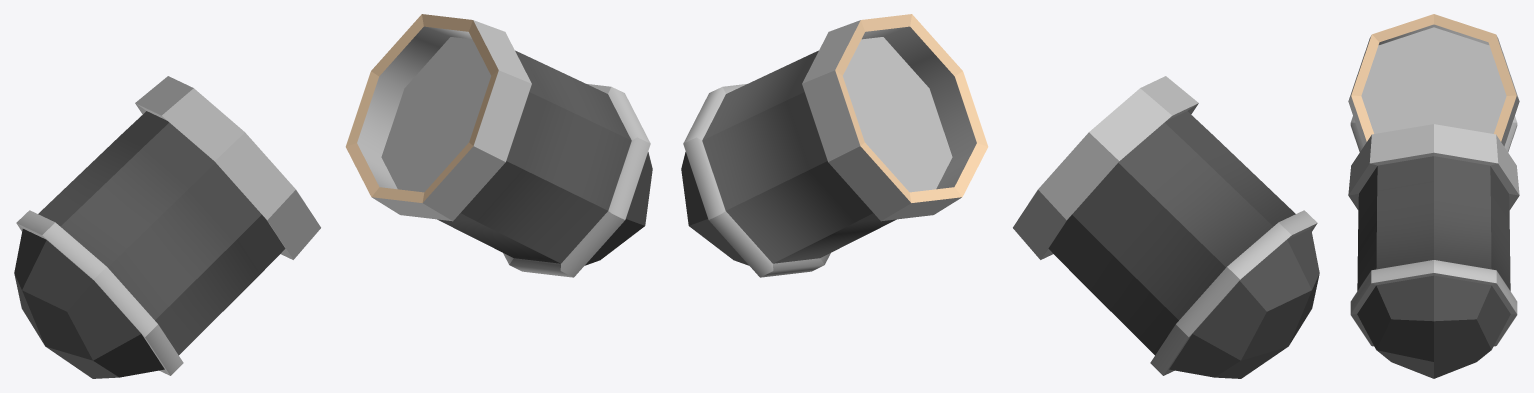
Rendered from iron_gloves_mesh.fbx.
3 renders of one model, left to right at view 1: azimuth 30°, elevation 25°; view 2: azimuth 150°, elevation 25°; view 3: azimuth 270°, elevation 25°, orthographic. The views are drawn at different scales.
Parts seen in each view (by area): view 1: Iron_Gloves_Mesh; view 2: Iron_Gloves_Mesh; view 3: Iron_Gloves_Mesh.
Part boxes in pixels (bbox=[...]): Iron_Gloves_Mesh: bbox=[14, 14, 652, 378]; Iron_Gloves_Mesh: bbox=[681, 14, 1319, 378]; Iron_Gloves_Mesh: bbox=[1348, 14, 1519, 378].
Bounding box in the file's own units: 74.04 × 21.83 × 30.23.
